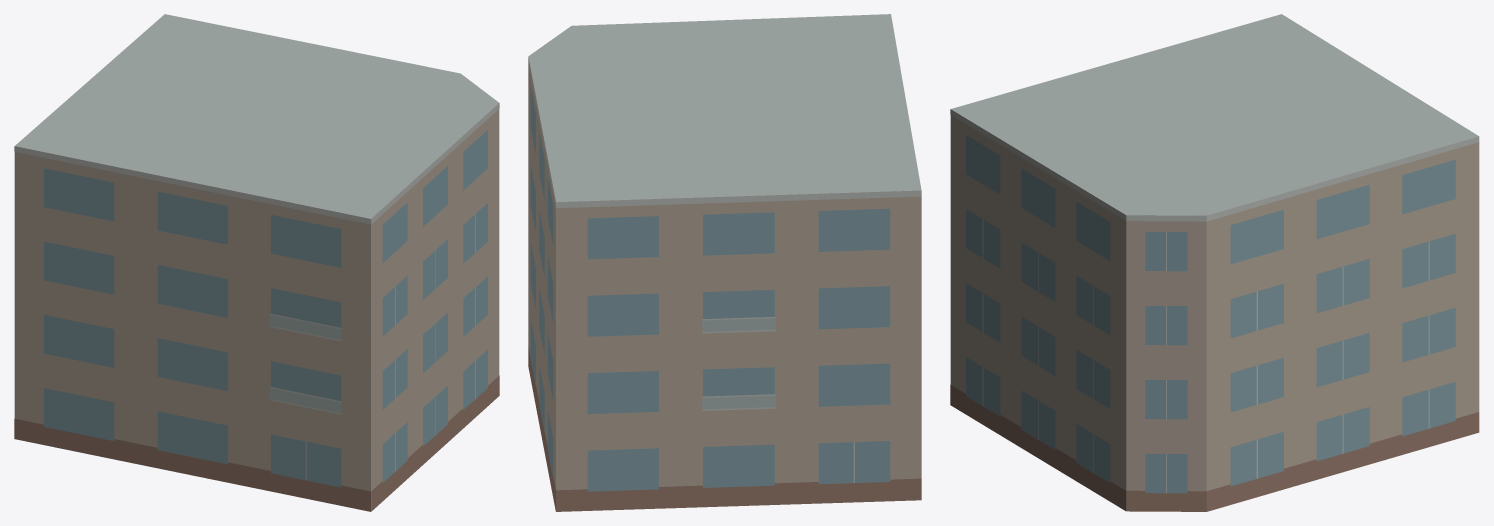
The model's file is survey-upis-32828978.glb.
3 renders of one model, left to right at view 1: azimuth 30°, elevation 25°; view 2: azimuth 150°, elevation 25°; view 3: azimuth 270°, elevation 25°, orthographic. The views are drawn at different scales.
Visible parts, largest first — view 1: survey-upis-32828978.tmp; view 2: survey-upis-32828978.tmp; view 3: survey-upis-32828978.tmp.
Part boxes in pixels (<box>): survey-upis-32828978.tmp: <box>14,14,499,511</box>; survey-upis-32828978.tmp: <box>528,14,921,511</box>; survey-upis-32828978.tmp: <box>950,14,1479,511</box>.
Size of the model in its own units: 18.35 by 12.55 by 20.32.
